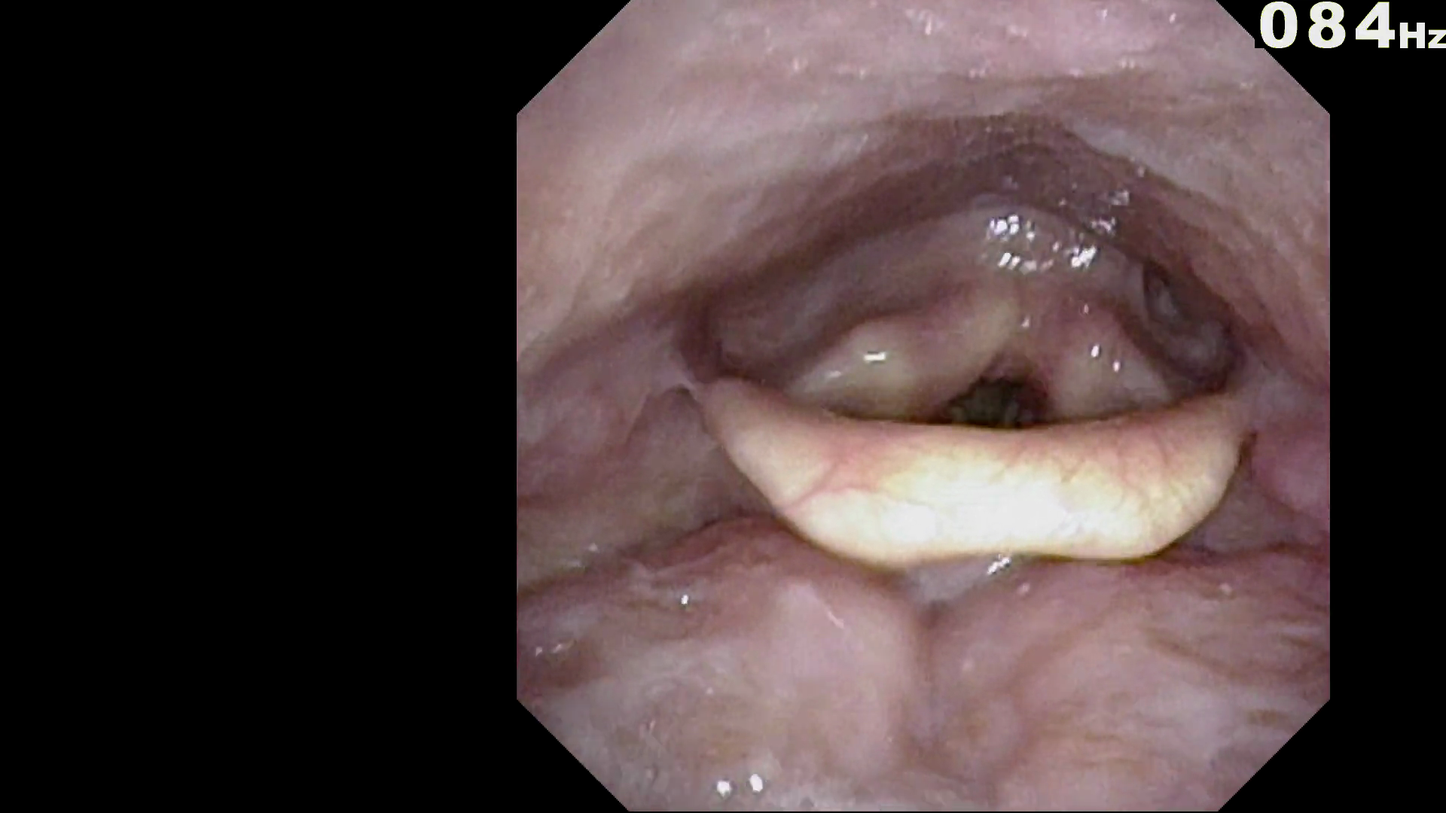epiglottis: (678, 347, 1276, 641)
trachea: (929, 358, 1051, 485)
